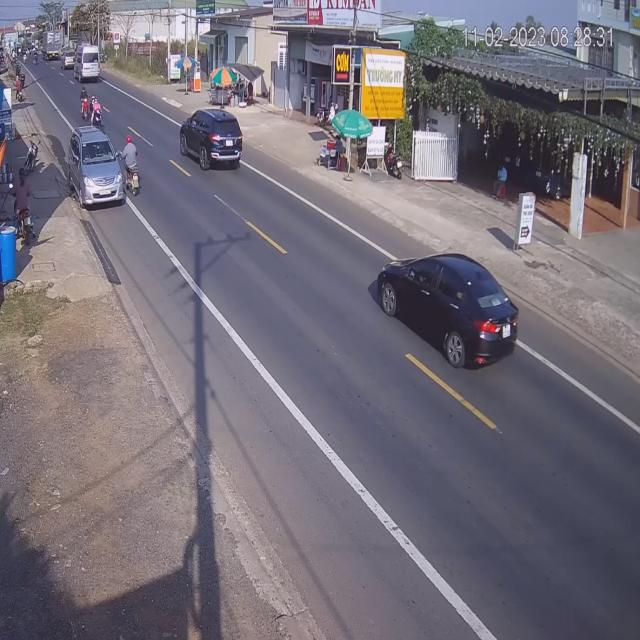bus: (75, 50, 100, 84)
car: (374, 250, 517, 368), (69, 125, 124, 207), (181, 105, 247, 172), (62, 51, 75, 73)
motorbike: (123, 136, 143, 200), (81, 91, 96, 125), (90, 96, 104, 129)
